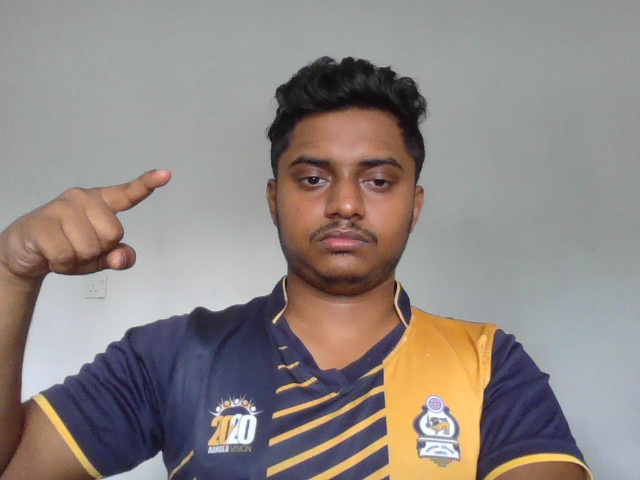Going To: (1, 166, 178, 277)
